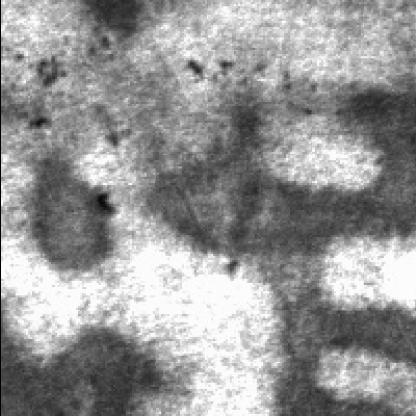patches: (148, 108, 416, 285), (275, 287, 416, 416), (2, 327, 179, 416), (341, 83, 416, 245), (33, 160, 121, 283), (86, 2, 154, 46)
